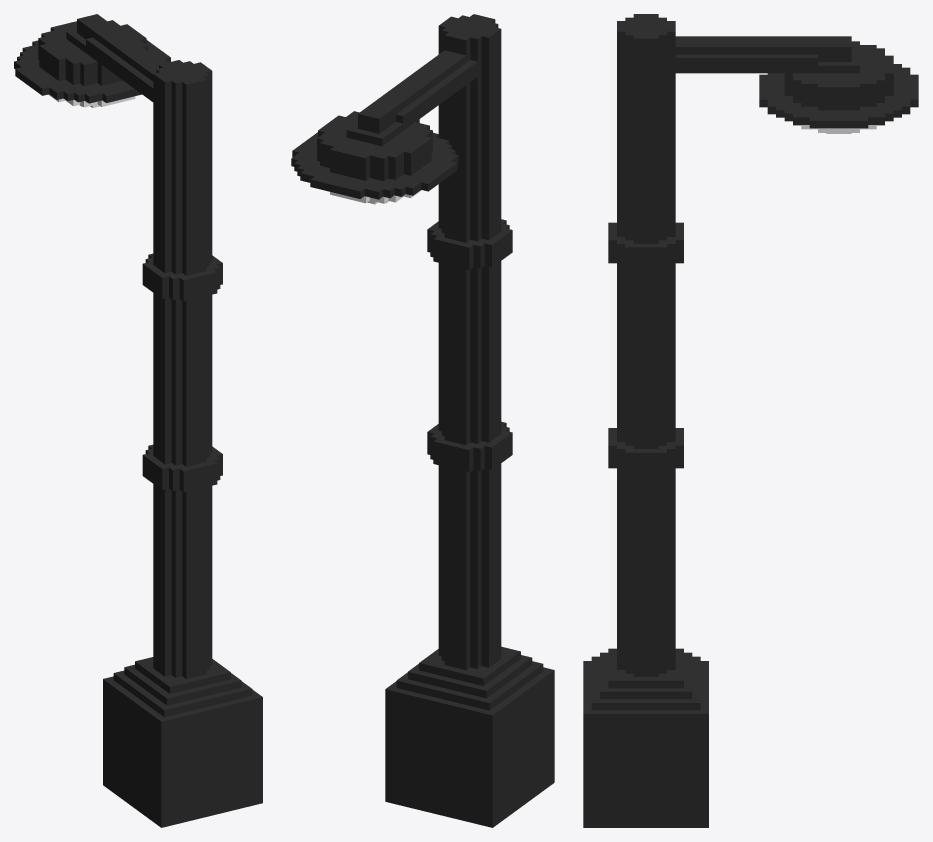
File: streetlamp.glb
The picture shows the model from 3 angles, left to right: view 1: azimuth 30°, elevation 25°; view 2: azimuth 150°, elevation 25°; view 3: azimuth 270°, elevation 25°; orthographic projection. The views are drawn at different scales.
Parts seen in each view (by area): view 1: streetlamp.001; view 2: streetlamp.001; view 3: streetlamp.001.
Part boxes in pixels (box(x1,y1,x2,y2)): streetlamp.001: box(14, 14, 262, 827); streetlamp.001: box(291, 14, 554, 827); streetlamp.001: box(583, 14, 918, 827).
Size of the model in its own units: 19 by 102 by 40.
Materials: 1 (1 with a texture image).
